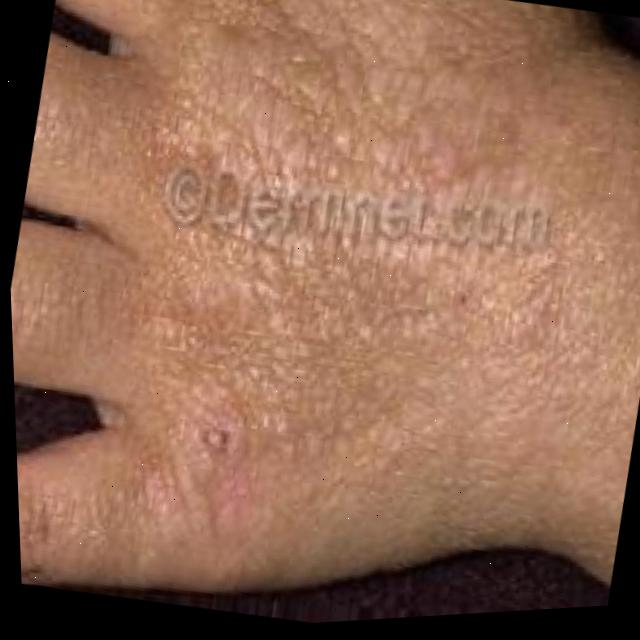Eczema: (81, 0, 640, 488)
